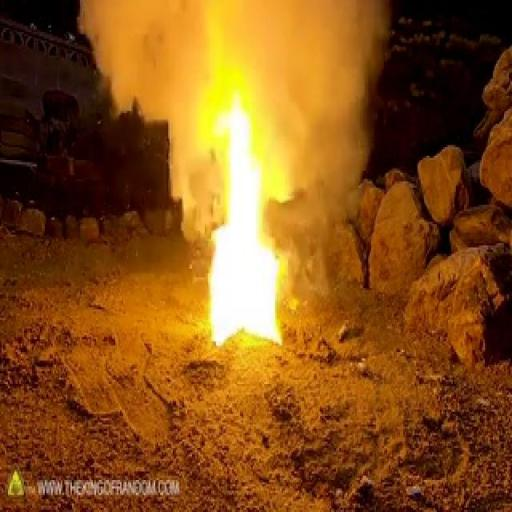smoke: (170, 91, 288, 353)
